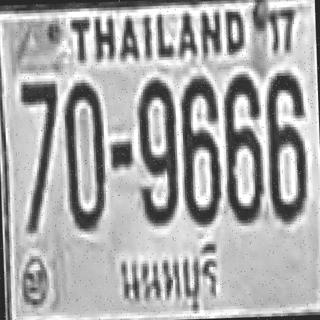N00: (61, 79, 105, 229)
N06: (178, 74, 220, 224), (221, 72, 262, 222), (264, 71, 305, 220)
N07: (18, 78, 59, 208), (19, 80, 58, 180), (18, 78, 58, 168)
N09: (136, 76, 177, 224)
P37: (107, 232, 226, 320)
